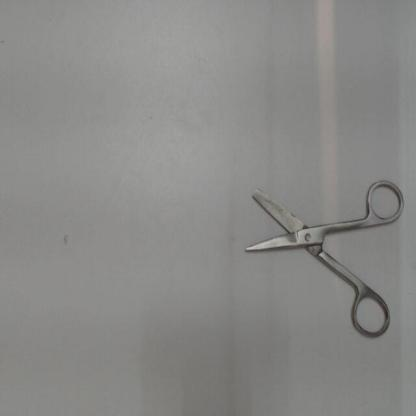Dressing Scissors: (230, 173, 408, 347)
